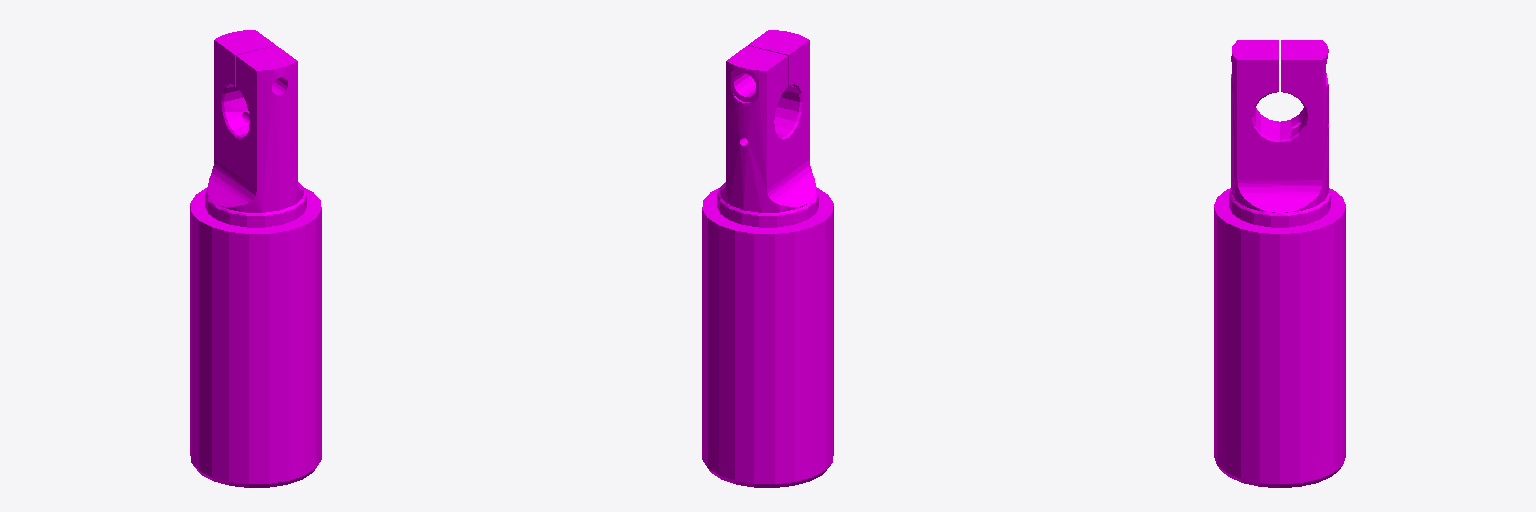
Rendered from Stewart_Actuator.obj.
The picture shows the model from 3 angles: view 1: azimuth 30°, elevation 25°; view 2: azimuth 150°, elevation 25°; view 3: azimuth 270°, elevation 25°; orthographic projection.
Parts seen in each view (by area): view 1: 1300_derived_Shaft.stp_Default_sldprt; view 2: 1300_derived_Shaft.stp_Default_sldprt; view 3: 1300_derived_Shaft.stp_Default_sldprt.
Boxes of the visible parts, box(x1,y1,x2,y2) form: 1300_derived_Shaft.stp_Default_sldprt: box(190, 30, 321, 487); 1300_derived_Shaft.stp_Default_sldprt: box(702, 30, 833, 487); 1300_derived_Shaft.stp_Default_sldprt: box(1214, 40, 1345, 487).
Size of the model in its own units: 0.07 by 0.24 by 0.07.